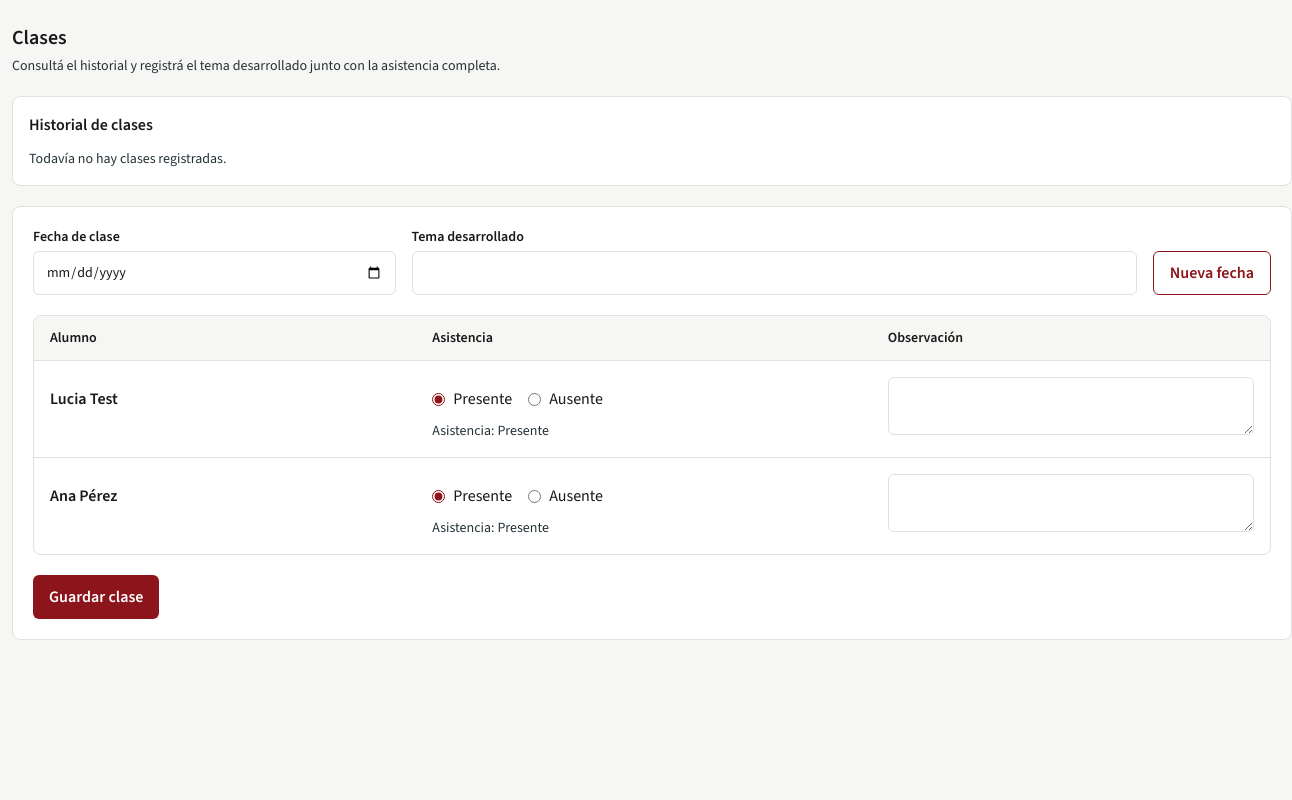
Scenario: ClassRegister › shows the server limit error without rewriting the submitted attendance batch
Step 1. Type "2026-09-10" into the date field labelled "Fecha de clase" → (214, 273), box [33,251,396,295]
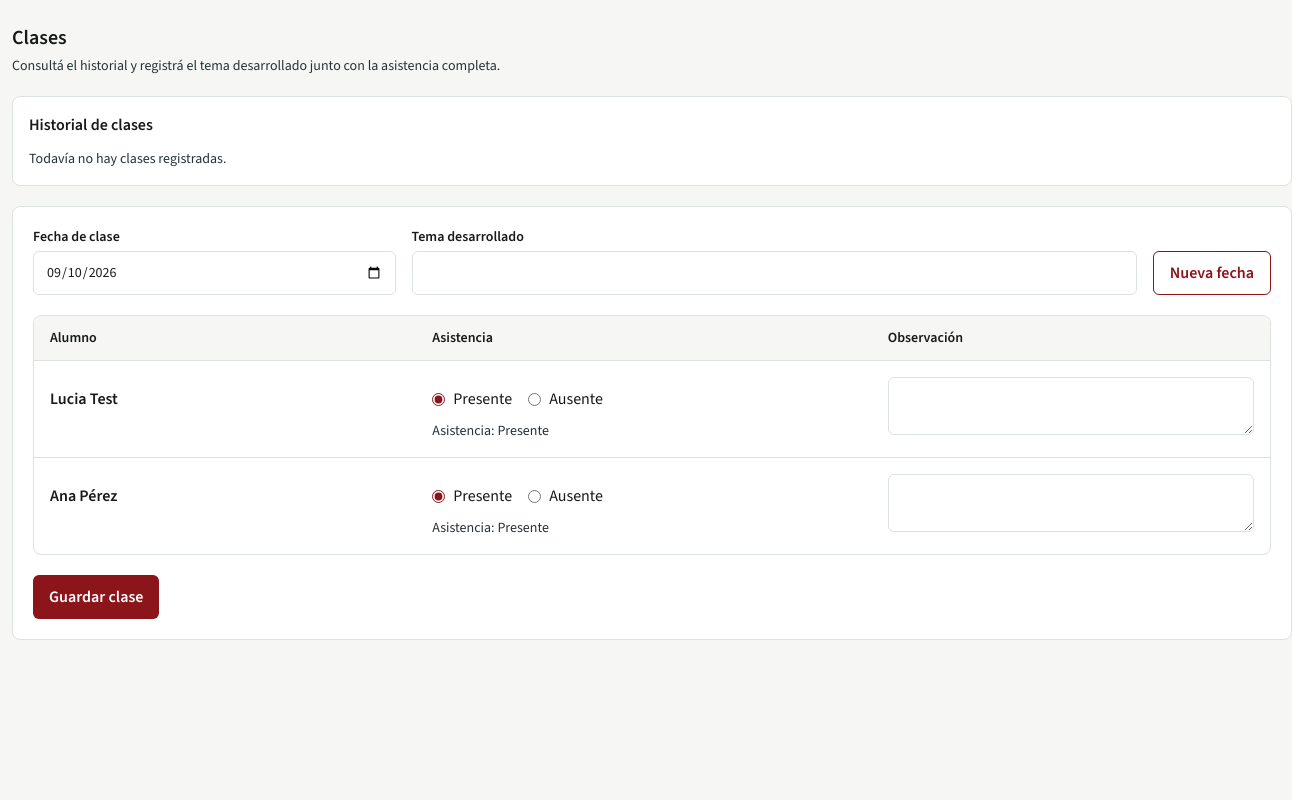
Step 2. Type "Ecuaciones" into the field labelled "Tema desarrollado" → (774, 273), box [412,251,1137,295]
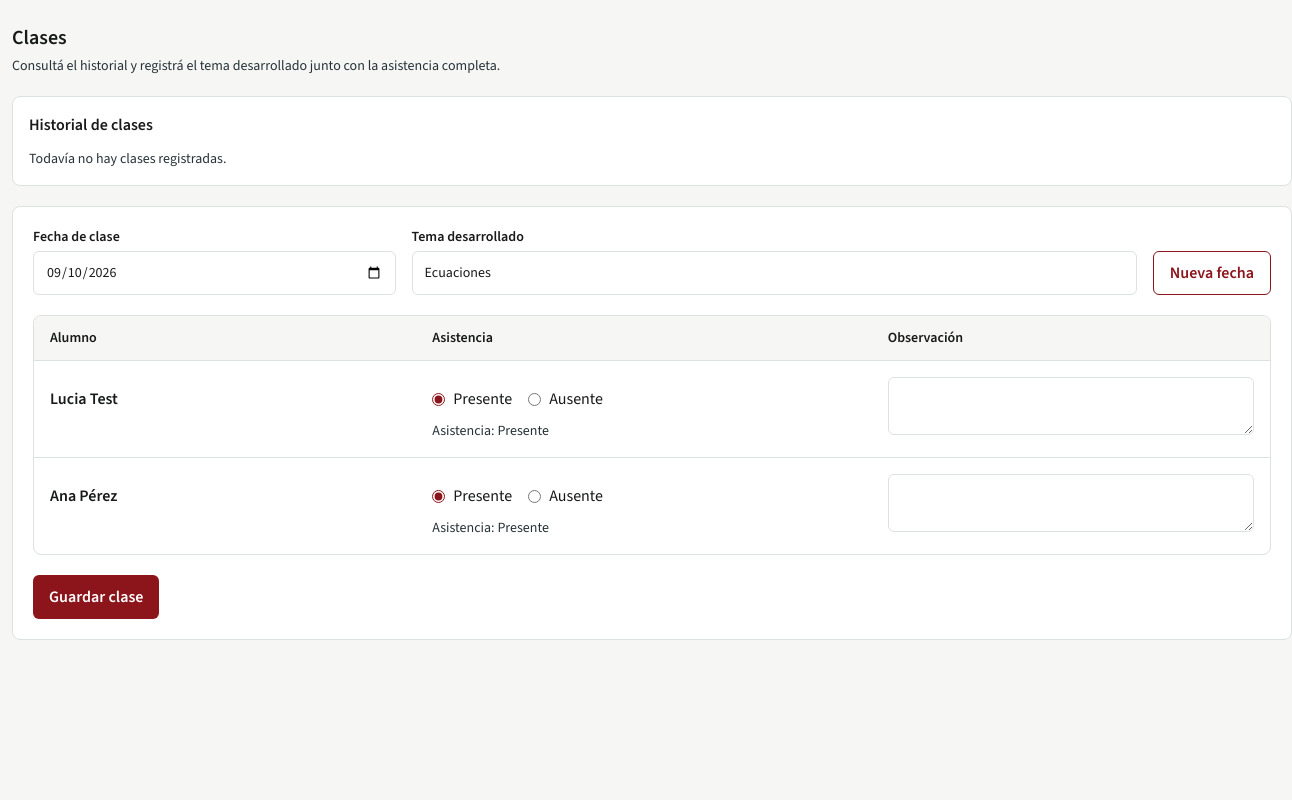
Step 3. Click the radio button labelled "Ausente" in the row of "Ana Pérez" → click(535, 496), box [528,490,541,502]
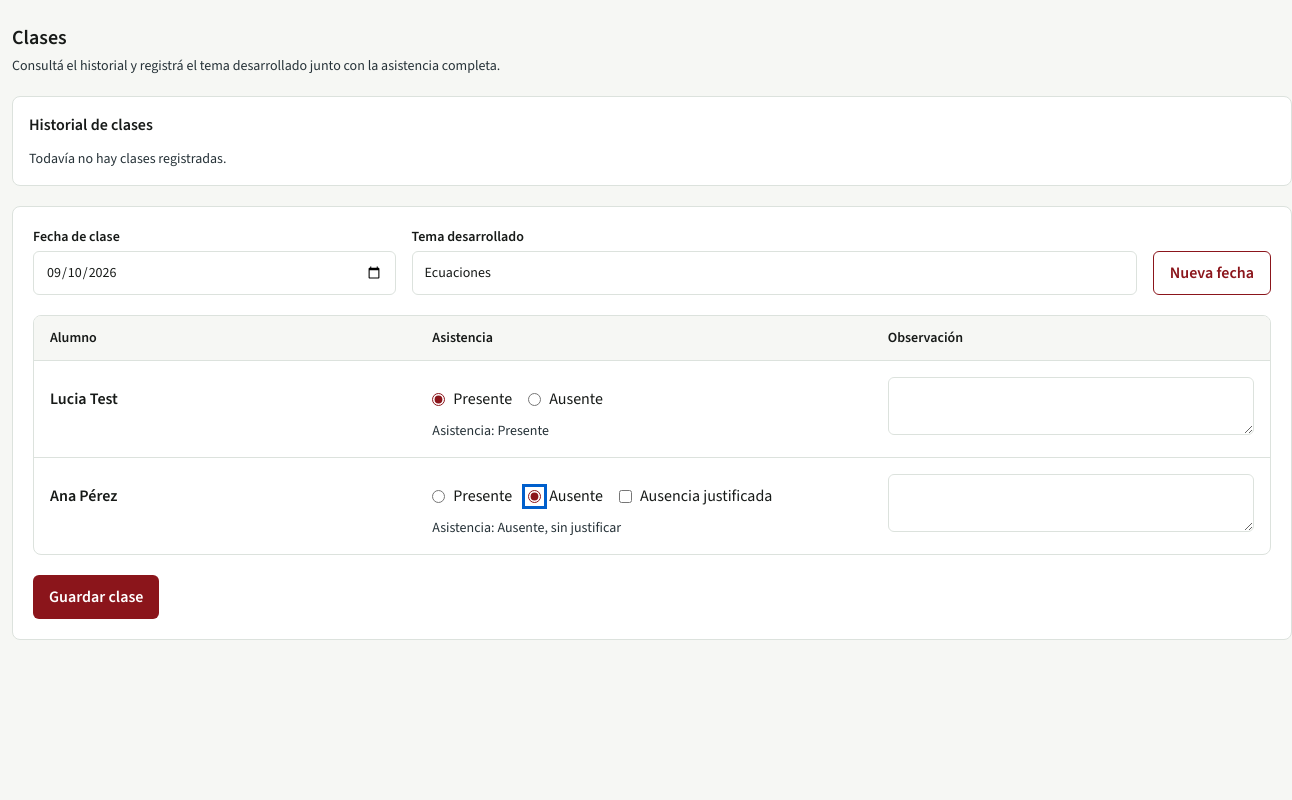
Step 4. Type "Conservar para reintentar" into the text box named "Observación" next to "Ausencia justificada" → (1071, 503), box [888,474,1254,532]
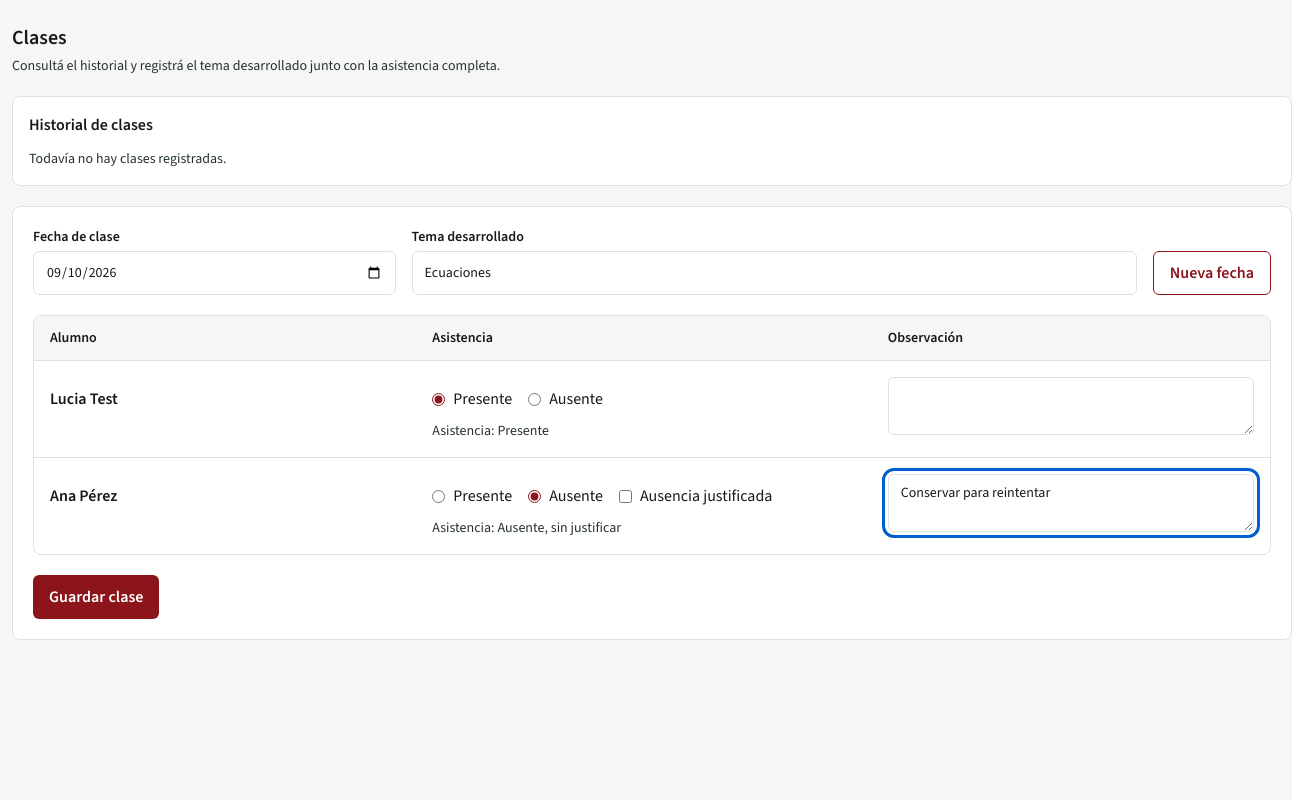
Step 5. Click the button "Guardar clase" → click(96, 597), box [33,575,160,619]
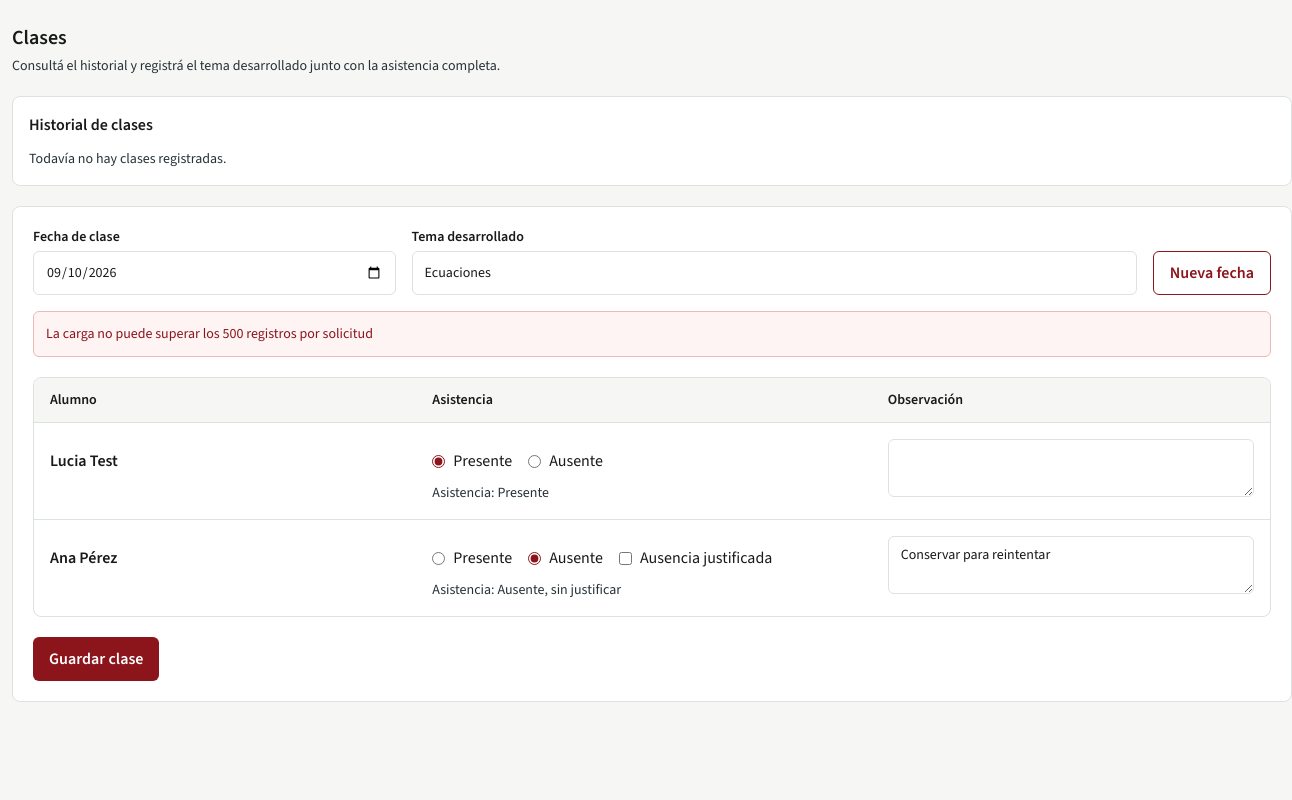
Expected: the radio button labelled "Ausente" in the row of "Ausencia justificada" is checked, [528,552,541,564]
Expected: the message "La carga no puede superar los 500 registros por solicitud" is shown, [33,311,1271,357]
